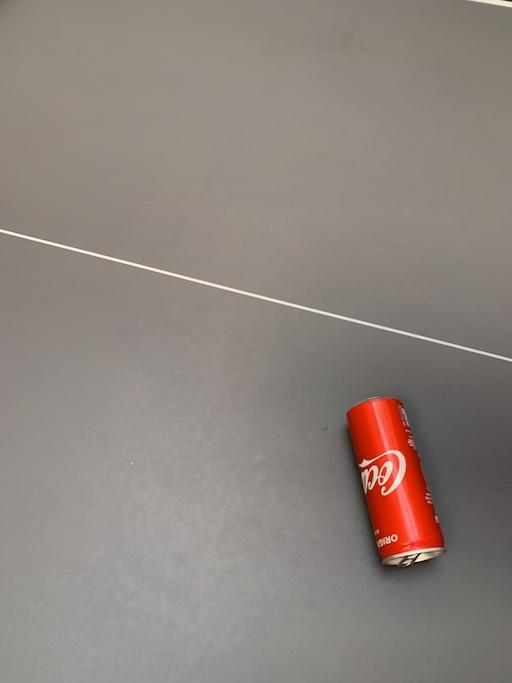Aluminum can: (320, 380, 466, 590)
